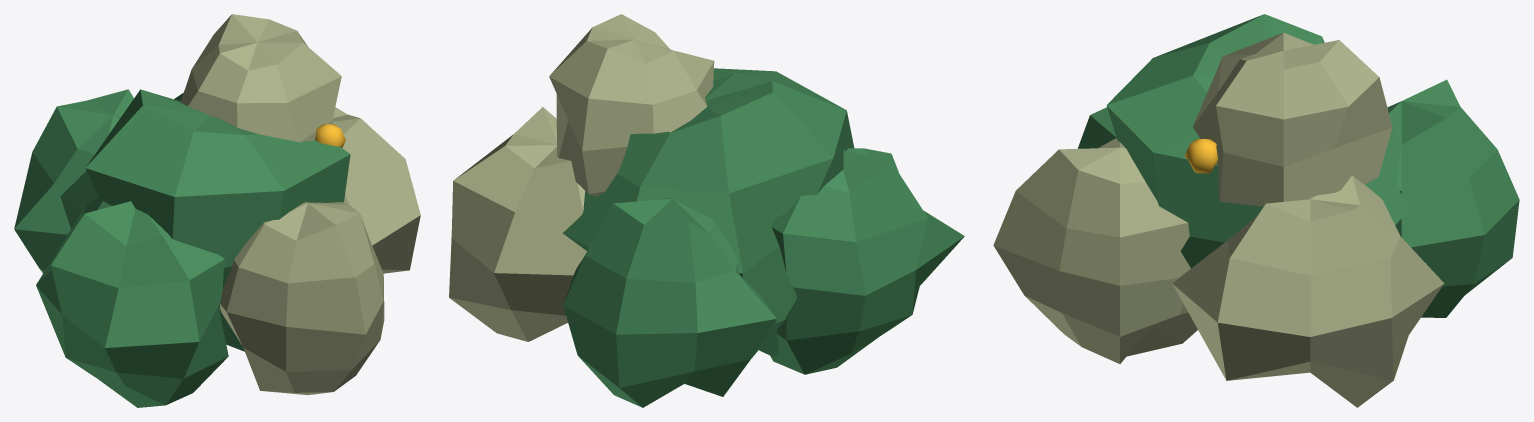
File: bush_flowers.glb
3 renders of one model, left to right at view 1: azimuth 30°, elevation 25°; view 2: azimuth 150°, elevation 25°; view 3: azimuth 270°, elevation 25°, orthographic. The views are drawn at different scales.
Visible parts, largest first — view 1: bush_flowers, bush_flowers_f5; view 2: bush_flowers; view 3: bush_flowers, bush_flowers_f5.
Part boxes in pixels (x1,y1,x2,y2): bush_flowers: (14, 14, 420, 407); bush_flowers_f5: (315, 124, 345, 147); bush_flowers: (449, 14, 964, 407); bush_flowers: (993, 14, 1519, 407); bush_flowers_f5: (1184, 139, 1217, 173).
Size of the model in its own units: 1.34 by 0.9875 by 1.38.
